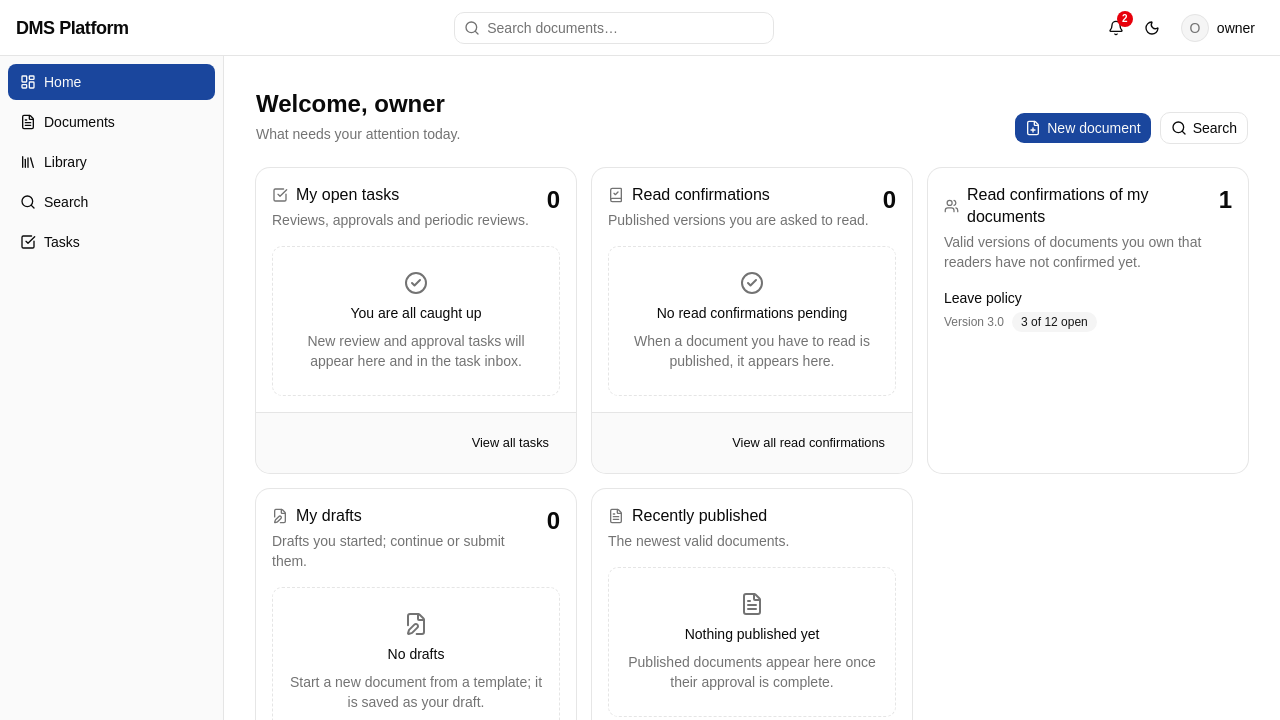
notification bell (DMS-130) › lists the newest notifications; opening one marks it read and follows its link
This screenshot has width=1280, height=720.
Click the button named "Notifications, 2 unread": (1116, 28) [1100,12,1132,44]
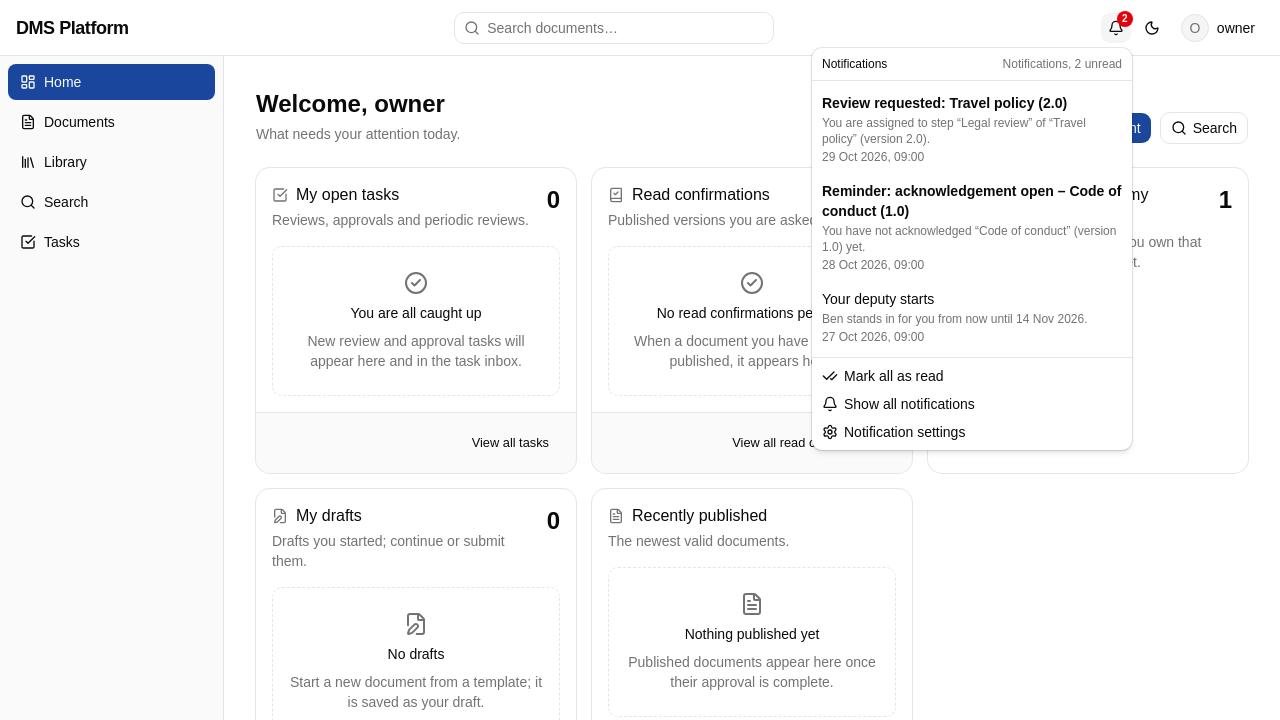
Click the menu item "Reminder: acknowledgement open – Code of conduct": (972, 227) [816,173,1128,281]
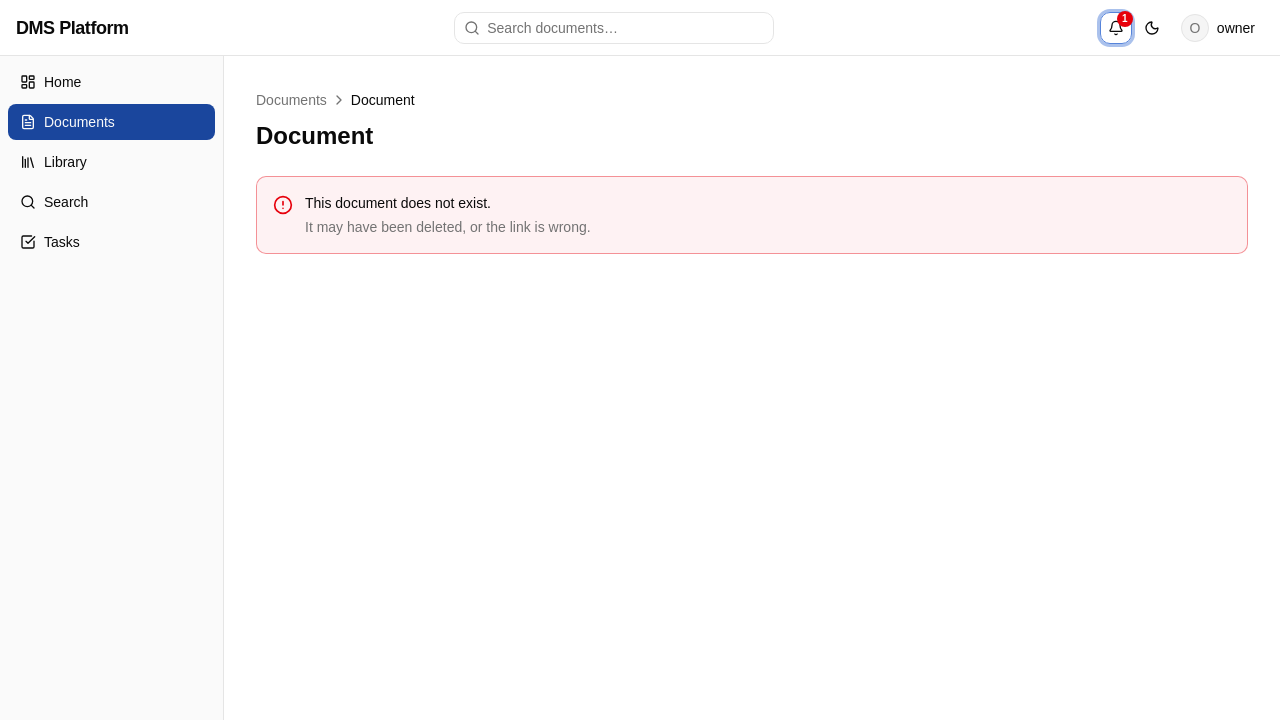
Check: the button named "Notifications, 1 unread" is shown, box [1100,12,1132,44]
